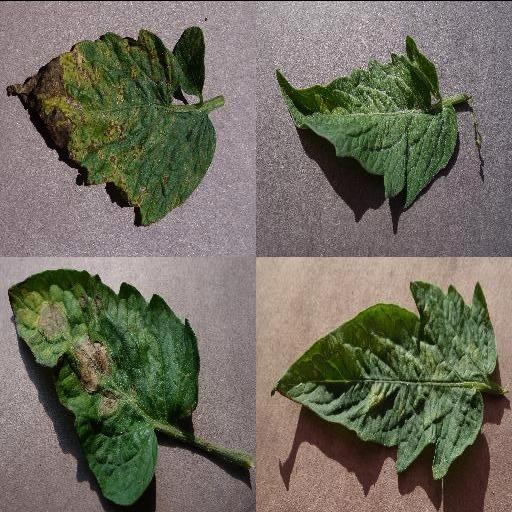Late Blight: (5, 266, 199, 506)
Septoria: (8, 24, 216, 226)
Spider Mites: (270, 276, 498, 478), (274, 34, 460, 204)
